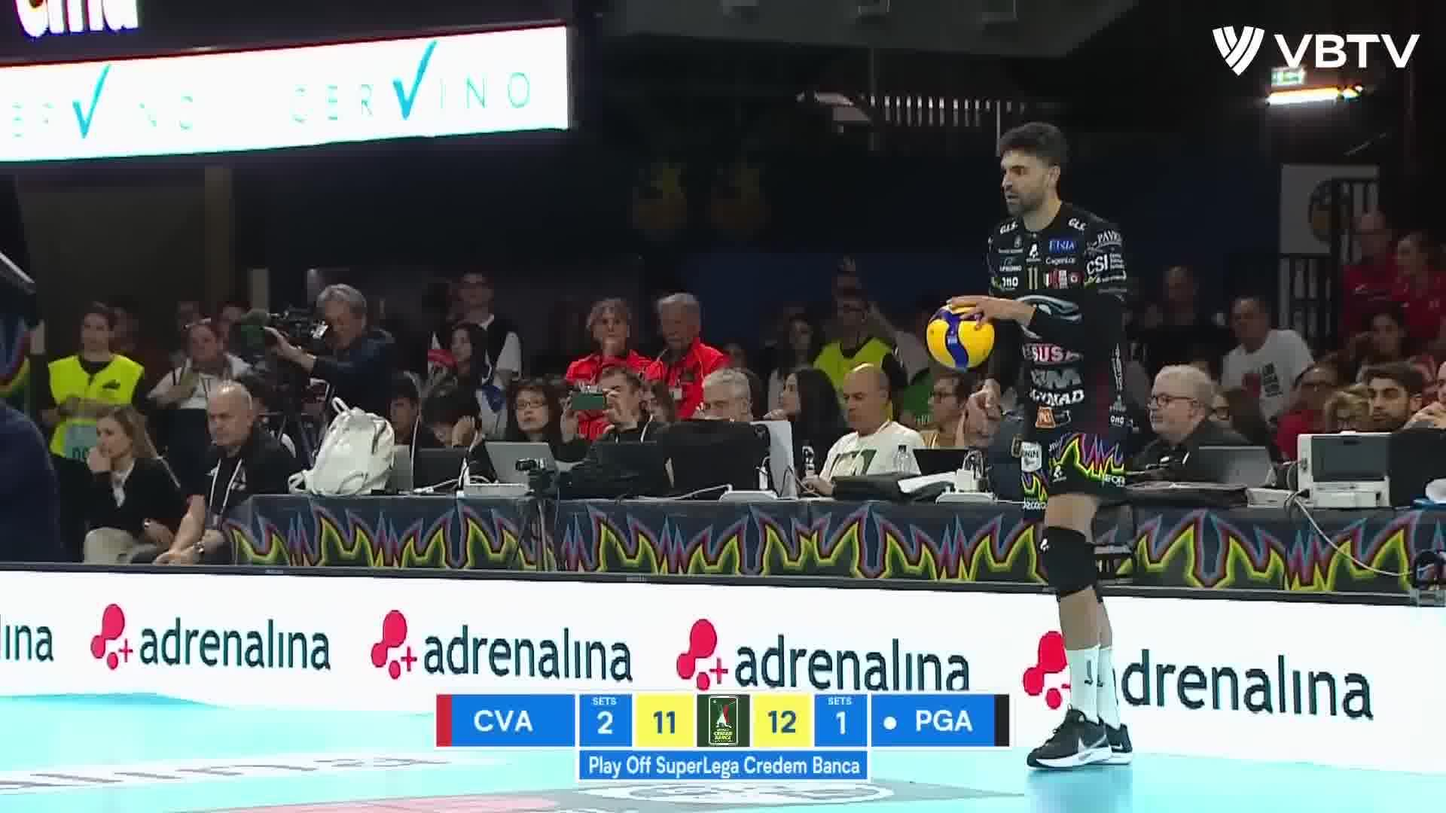balls: (926, 300, 1000, 373)
